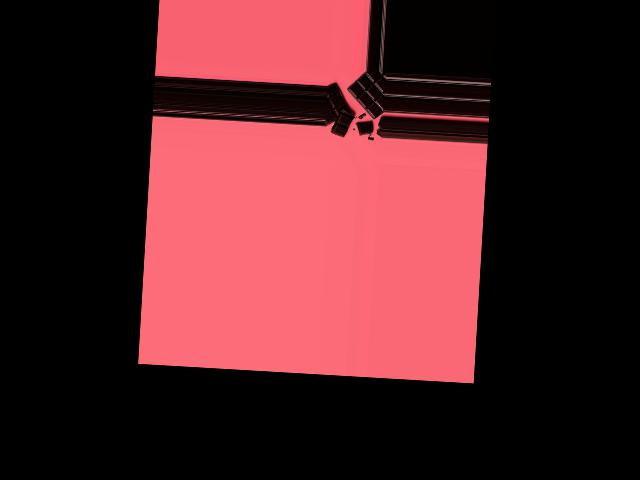chocolate: (328, 68, 386, 135)
